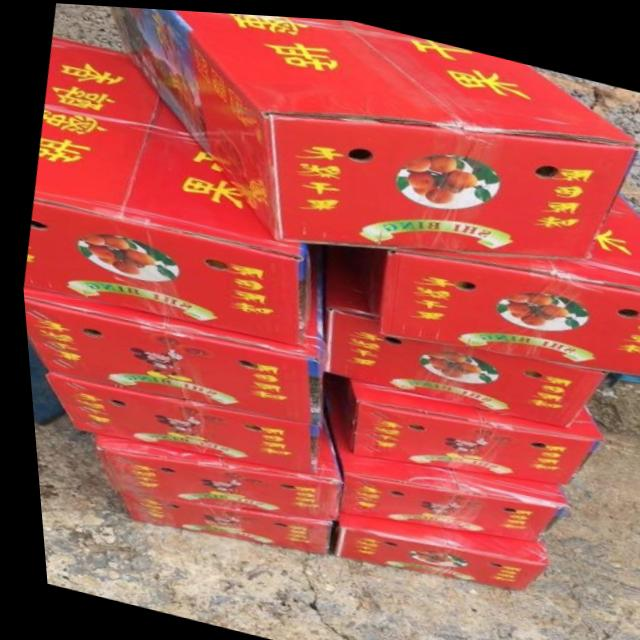box: (111, 5, 638, 253), (19, 37, 303, 344), (19, 242, 322, 424), (347, 186, 640, 367), (319, 241, 603, 423), (317, 371, 559, 535), (323, 371, 599, 481), (38, 373, 309, 471), (88, 424, 335, 517), (324, 509, 540, 589), (109, 490, 324, 552)
